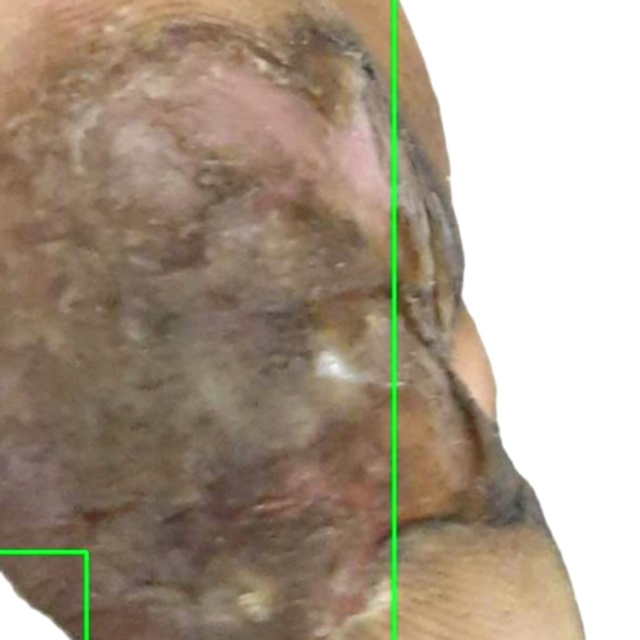Contact Dermatitis: (394, 0, 639, 639), (0, 551, 86, 639)
